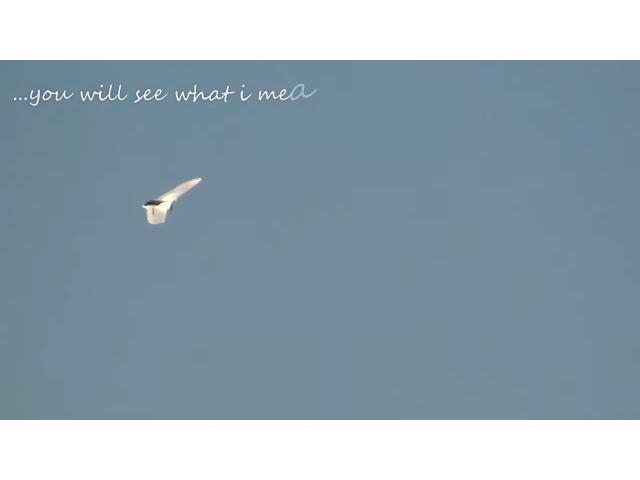Anti-Drone: (142, 178, 202, 224)
